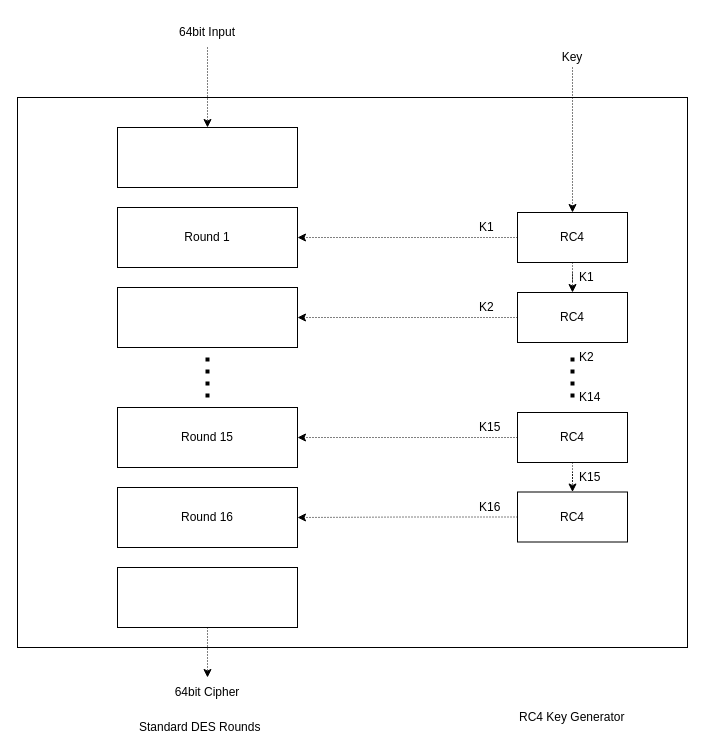
Image size: 705x754. Some labels were removed from this diagram. The centre of each missing label's shape, as x and y in pixels:
"Final Permutation" goes at point (207, 597).
"Initial Permutation" goes at point (207, 157).
"Round 2" goes at point (207, 317).
